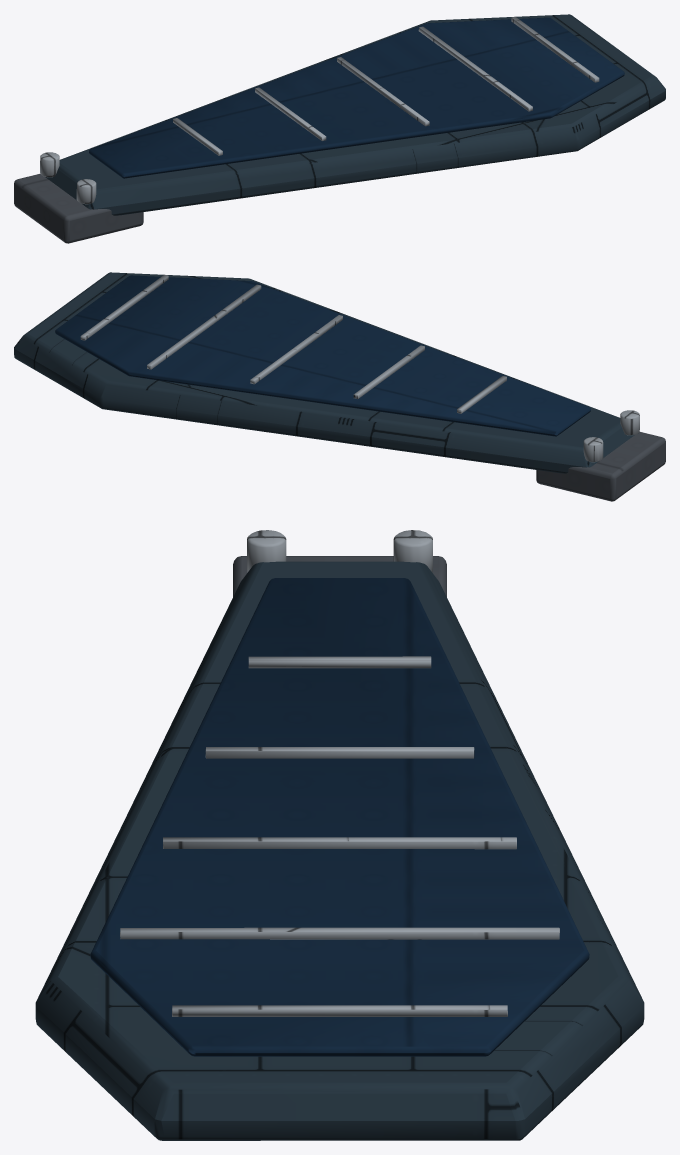
File: ops_radial_solar_petal_lod1.glb
The picture shows the model from 3 angles, top to bottom: view 1: azimuth 30°, elevation 25°; view 2: azimuth 150°, elevation 25°; view 3: azimuth 270°, elevation 25°; orthographic projection. The views are drawn at different scales.
Visible parts, largest first — view 1: LOD1_Ceramic_solar, LOD1_Armor, LOD1_Mechanical, LOD1_BrushedMetal; view 2: LOD1_Ceramic_solar, LOD1_Armor, LOD1_Mechanical, LOD1_BrushedMetal; view 3: LOD1_Ceramic_solar, LOD1_Armor, LOD1_BrushedMetal, LOD1_Mechanical.
Boxes of the visible parts, box(x1,y1,x2,y2) form: LOD1_Ceramic_solar: box(89, 17, 624, 178); LOD1_Armor: box(45, 14, 665, 215); LOD1_Mechanical: box(14, 174, 143, 243); LOD1_BrushedMetal: box(40, 16, 599, 204); LOD1_Ceramic_solar: box(55, 275, 590, 436); LOD1_Armor: box(14, 272, 634, 473); LOD1_Mechanical: box(536, 432, 665, 501); LOD1_BrushedMetal: box(80, 274, 639, 462); LOD1_Ceramic_solar: box(90, 578, 589, 1056); LOD1_Armor: box(35, 561, 644, 1140); LOD1_BrushedMetal: box(120, 530, 559, 1016); LOD1_Mechanical: box(233, 556, 446, 596).
Bounding box in the file's own units: 4.4 × 0.3796 × 1.99.
Materials: 4 (4 with a texture image).
